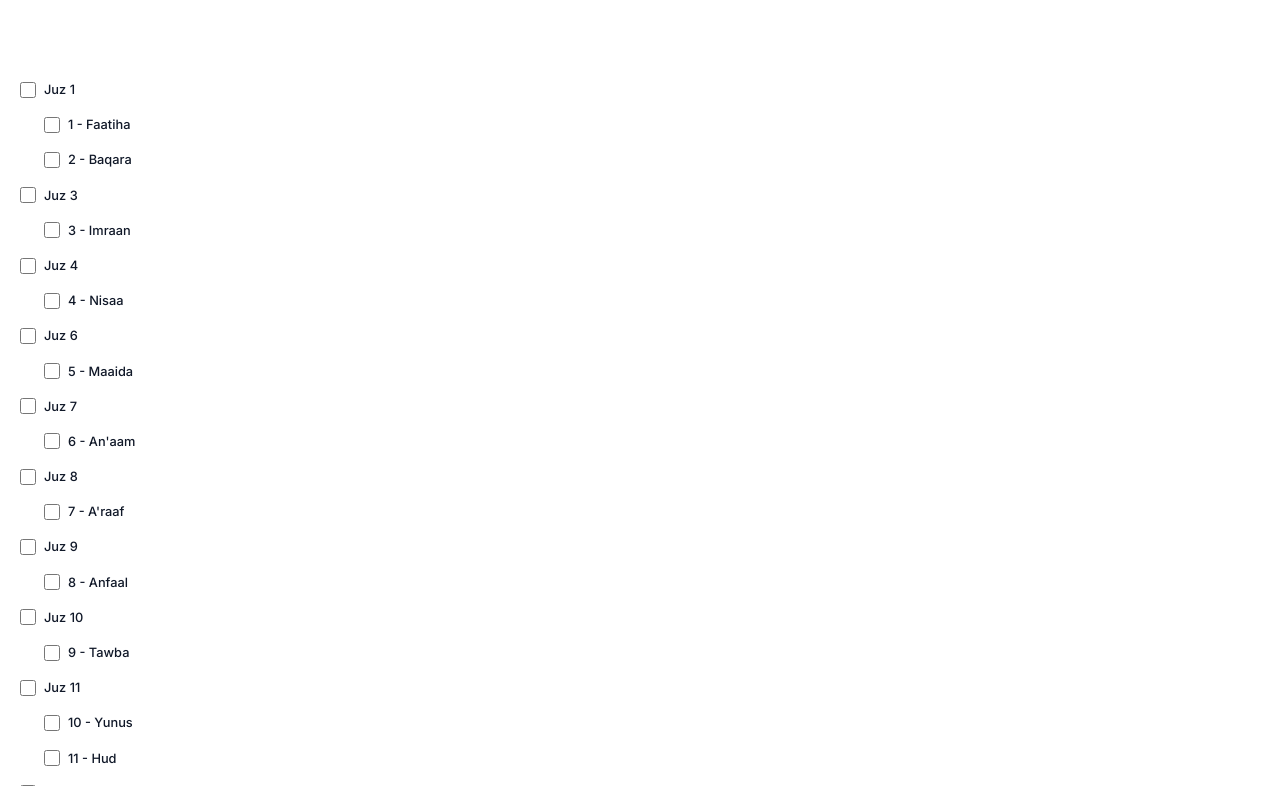
Scenario: Add Quran card form › Submitting › Wihout juz › should not reset form when response is not 200 or 500 and display error message
The width and height of the screenshot is (1280, 786).
Click the checkbox with test id "quran-checkbox-input".
click(28, 90)  # box x1=20 y1=82 x2=36 y2=98
(page scrolled)
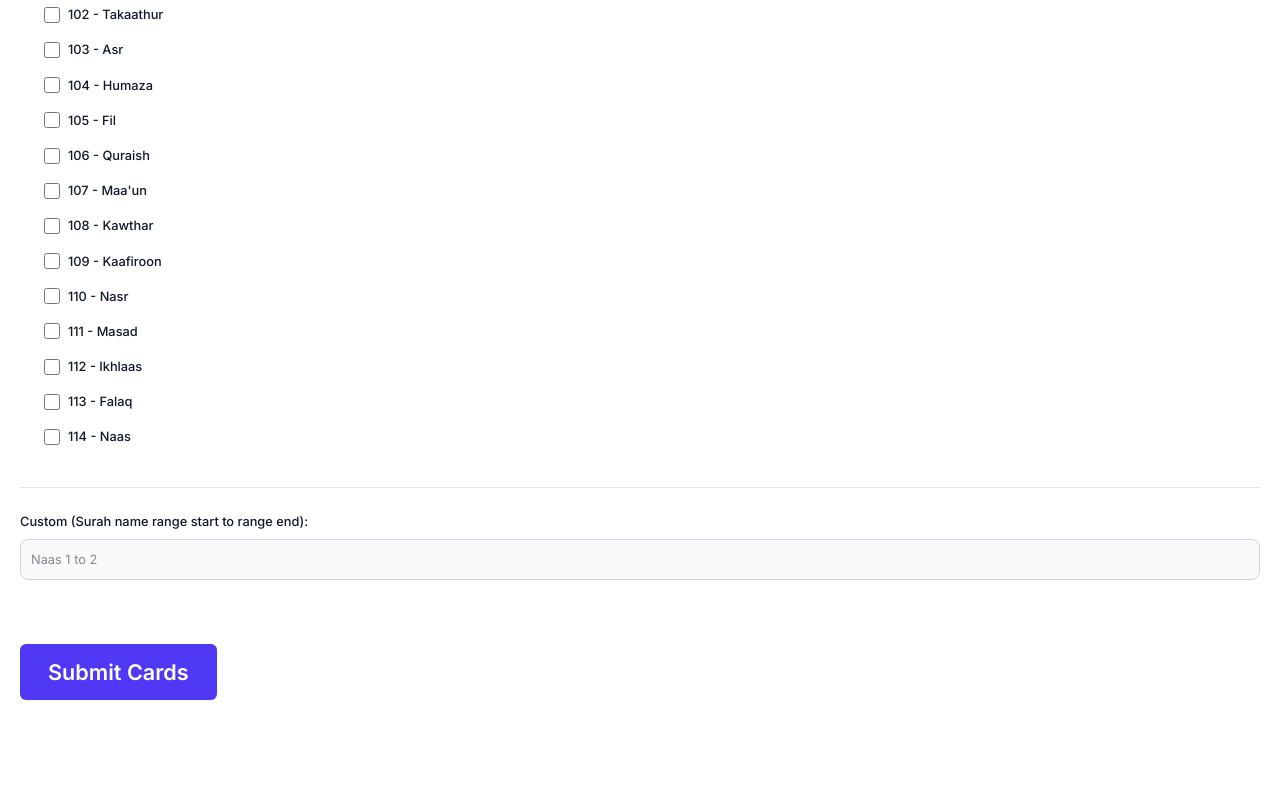
Click the button with test id "add-cards-submit-button".
click(118, 672)  # box x1=20 y1=644 x2=217 y2=700
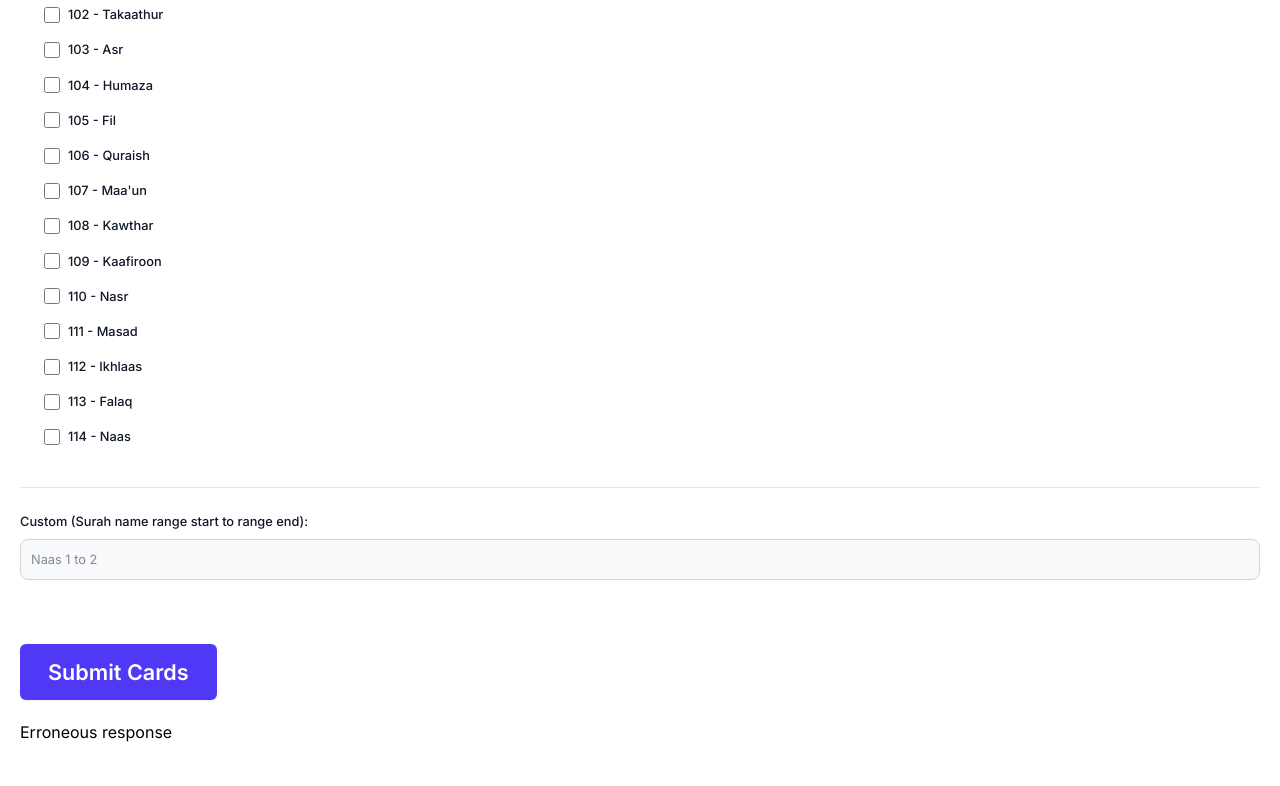
Expected: the text "Erroneous response" is shown, x1=20 y1=722 x2=172 y2=742
